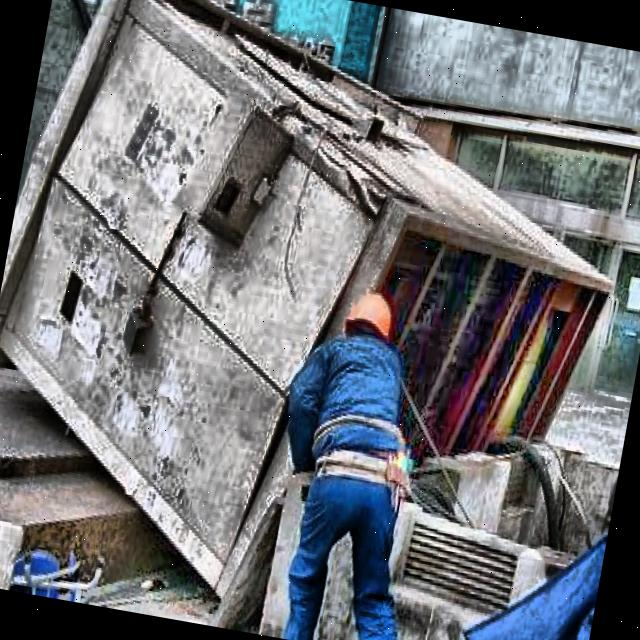helmet: (339, 288, 401, 356)
